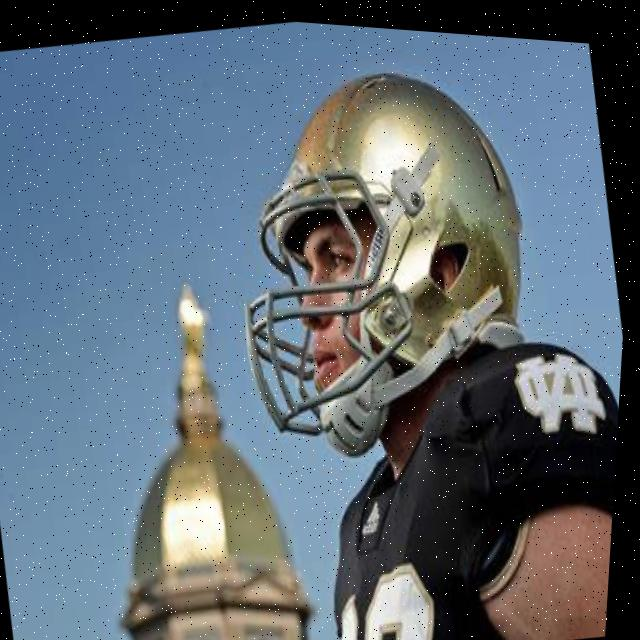illegal_helmet: (193, 22, 577, 489)
